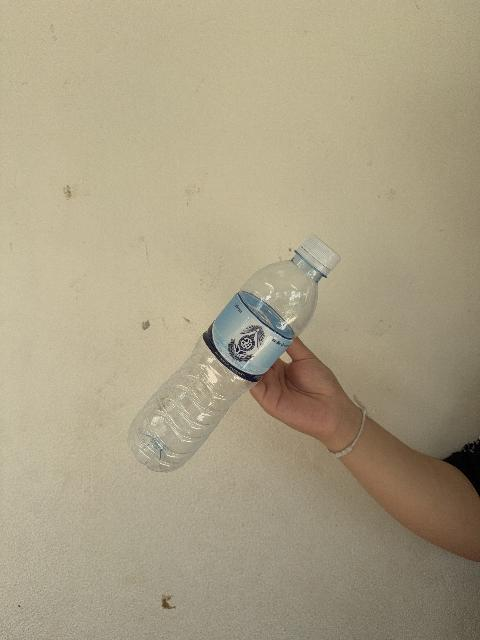bottle: (128, 234, 340, 471)
